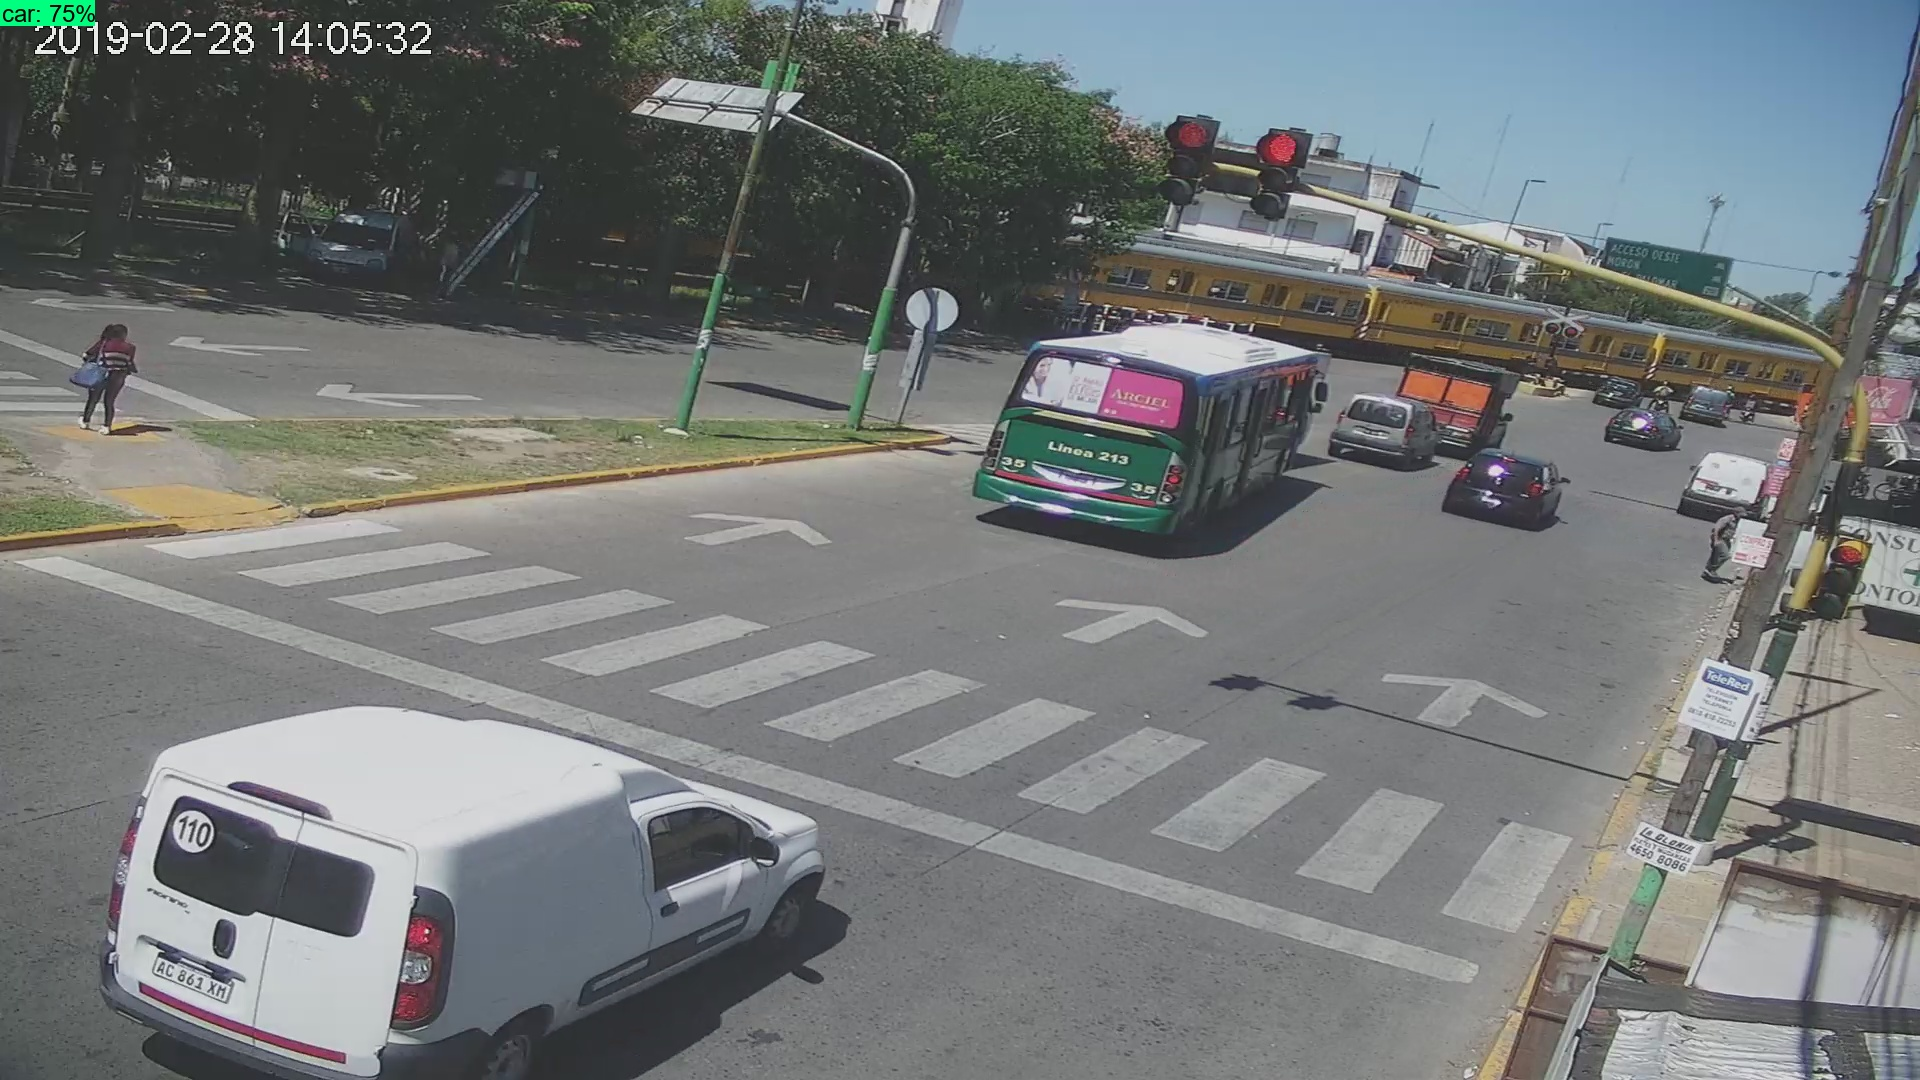bus: (971, 318, 1338, 553)
car: (84, 700, 847, 1080), (1435, 433, 1571, 541), (1672, 423, 1774, 535), (1323, 386, 1443, 473), (1598, 402, 1680, 459)
